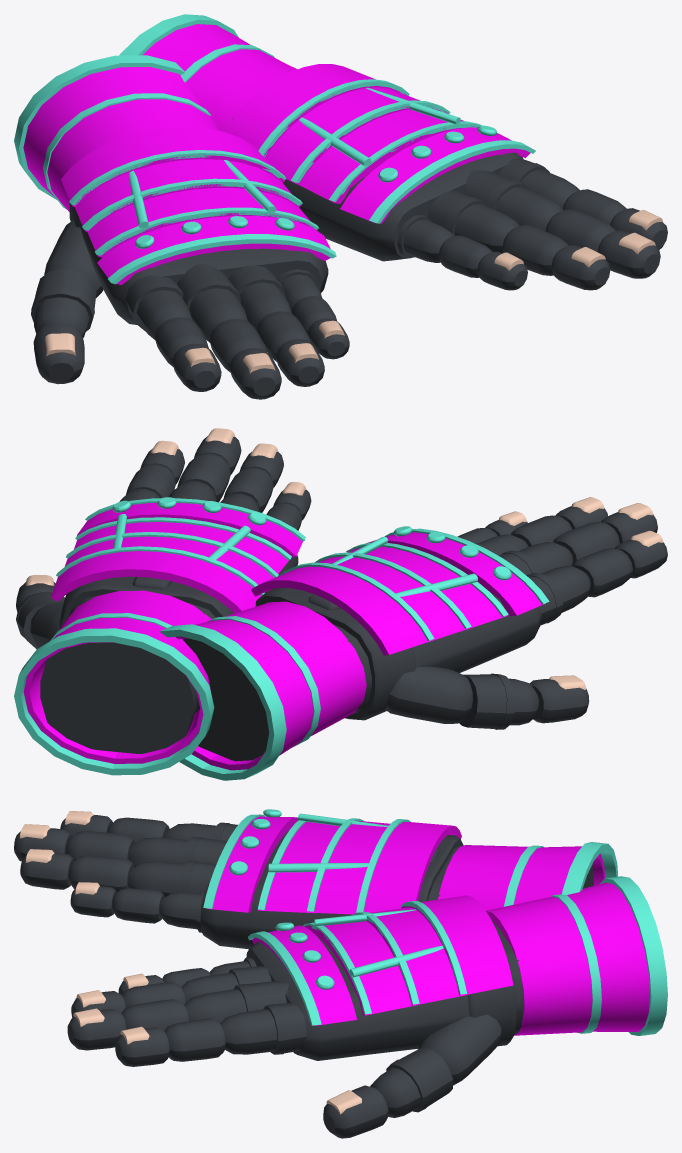
Rendered from objet_armure5_gants.glb.
The picture shows the model from 3 angles, top to bottom: view 1: azimuth 30°, elevation 25°; view 2: azimuth 150°, elevation 25°; view 3: azimuth 270°, elevation 25°; orthographic projection. The views are drawn at different scales.
Parts seen in each view (by area): view 1: main__gantelet_teinte.022, main__gantelet_teinte.021, manchette__gantelet_teinte.022, main__gantelet_nano_lueur.006, main__gantelet_nano_lueur.005, manchette__gantelet_teinte.021, main.021, main.022, manchette__gantelet_nano_lueur.006, pouce_2.022, annulaire_1.021, majeur_1.021 (+25 smaller); view 2: main__gantelet_teinte.022, manchette.021, main__gantelet_teinte.021, manchette__gantelet_teinte.022, main.022, manchette__gantelet_teinte.021, manchette__gantelet_nano_lueur.005, main__gantelet_nano_lueur.005, manchette__gantelet_nano_lueur.006, main__gantelet_nano_lueur.006, manchette.022, pouce_1.022 (+25 smaller); view 3: manchette__gantelet_teinte.021, main__gantelet_teinte.021, main__gantelet_teinte.022, main.021, manchette__gantelet_teinte.022, main__gantelet_nano_lueur.005, main__gantelet_nano_lueur.006, main.022, manchette__gantelet_nano_lueur.005, pouce_2.021, index_1.021, pouce_1.021 (+24 smaller).
Part boxes in pixels (bbox=[...]): main__gantelet_teinte.022: bbox=[61, 126, 330, 285]; main__gantelet_teinte.021: bbox=[224, 64, 530, 223]; manchette__gantelet_teinte.022: bbox=[23, 67, 219, 211]; main__gantelet_nano_lueur.006: bbox=[69, 150, 336, 284]; main__gantelet_nano_lueur.005: bbox=[258, 79, 535, 223]; manchette__gantelet_teinte.021: bbox=[143, 24, 297, 131]; main.021: bbox=[232, 118, 523, 261]; main.022: bbox=[69, 203, 328, 324]; manchette__gantelet_nano_lueur.006: bbox=[14, 55, 210, 209]; pouce_2.022: bbox=[31, 269, 96, 337]; annulaire_1.021: bbox=[427, 191, 519, 253]; majeur_1.021: bbox=[462, 170, 563, 231]; main__gantelet_teinte.022: bbox=[251, 532, 545, 655]; manchette.021: bbox=[40, 642, 197, 753]; main__gantelet_teinte.021: bbox=[51, 502, 302, 613]; manchette__gantelet_teinte.022: bbox=[176, 601, 366, 770]; main.022: bbox=[255, 588, 541, 720]; manchette__gantelet_teinte.021: bbox=[23, 590, 212, 763]; manchette__gantelet_nano_lueur.005: bbox=[14, 613, 214, 775]; main__gantelet_nano_lueur.005: bbox=[56, 497, 305, 595]; manchette__gantelet_nano_lueur.006: bbox=[159, 616, 320, 780]; main__gantelet_nano_lueur.006: bbox=[279, 526, 549, 640]; manchette.022: bbox=[182, 638, 268, 761]; pouce_1.022: bbox=[385, 666, 472, 723]; manchette__gantelet_teinte.021: bbox=[486, 882, 649, 1035]; main__gantelet_teinte.021: bbox=[252, 895, 513, 1025]; main__gantelet_teinte.022: bbox=[207, 816, 461, 914]; main.021: bbox=[246, 930, 523, 1060]; manchette__gantelet_teinte.022: bbox=[438, 845, 604, 910]; main__gantelet_nano_lueur.005: bbox=[248, 901, 466, 1025]; main__gantelet_nano_lueur.006: bbox=[203, 809, 410, 912]; main.022: bbox=[200, 830, 463, 949]; manchette__gantelet_nano_lueur.005: bbox=[551, 876, 667, 1035]; pouce_2.021: bbox=[370, 1047, 453, 1117]; index_1.021: bbox=[220, 1002, 306, 1054]; pouce_1.021: bbox=[418, 1014, 501, 1085].
Bounding box in the file's own units: 0.3286 × 0.0844 × 0.3517.
